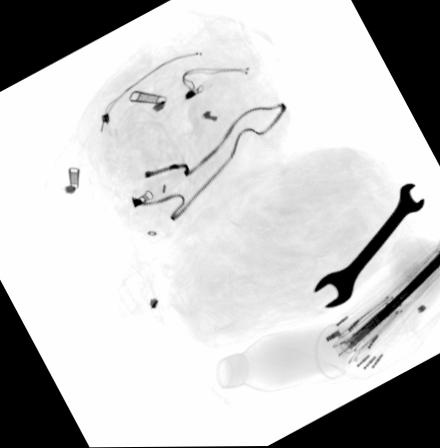Wrench: (312, 184, 424, 310)
